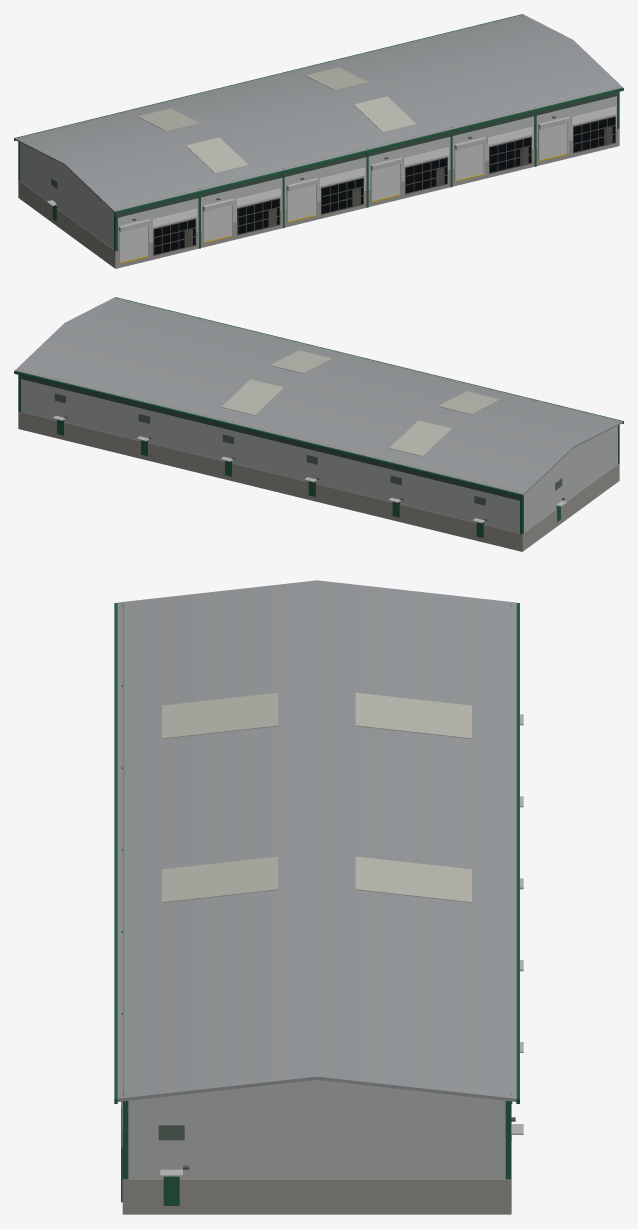
The model's file is context.industrial.trade_terrace.glb.
The picture shows the model from 3 angles, top to bottom: view 1: azimuth 30°, elevation 25°; view 2: azimuth 150°, elevation 25°; view 3: azimuth 270°, elevation 25°; orthographic projection. The views are drawn at different scales.
Visible parts, largest first — view 1: main__clad_999, main__clad_bbb, main__glass_dark, main__galv_ccc, main__concrete_a99, main__lens_bbb, main__steel_264, main__paint_555, main__steel_bbb, main__paint_ddd, main__clad_454; view 2: main__clad_999, main__clad_bbb, main__concrete_a99, main__lens_bbb, main__steel_264, main__clad_454, main__paint_264, main__paint_666; view 3: main__clad_999, main__clad_bbb, main__lens_bbb, main__concrete_a99, main__steel_264.
Boxes of the visible parts, x1,y1,x2,y2 form: main__clad_999: (15, 14, 622, 212); main__clad_bbb: (20, 96, 616, 250); main__glass_dark: (154, 117, 614, 254); main__galv_ccc: (120, 123, 567, 262); main__concrete_a99: (18, 128, 619, 268); main__lens_bbb: (137, 67, 416, 173); main__steel_264: (14, 14, 623, 251); main__paint_555: (55, 116, 615, 255); main__steel_bbb: (46, 116, 570, 263); main__paint_ddd: (152, 106, 616, 226); main__clad_454: (118, 92, 616, 217); main__clad_999: (15, 297, 622, 495); main__clad_bbb: (21, 379, 617, 533); main__concrete_a99: (18, 411, 619, 551); main__lens_bbb: (221, 350, 500, 456); main__steel_264: (14, 297, 623, 534); main__clad_454: (21, 375, 519, 500); main__paint_264: (57, 420, 560, 537); main__paint_666: (54, 393, 562, 505); main__clad_999: (117, 580, 516, 1101); main__clad_bbb: (128, 1080, 505, 1179); main__lens_bbb: (162, 692, 471, 902); main__concrete_a99: (122, 1104, 511, 1214); main__steel_264: (114, 603, 519, 1179).
Size of the model in its own units: 73.6 by 9.58 by 25.36.
